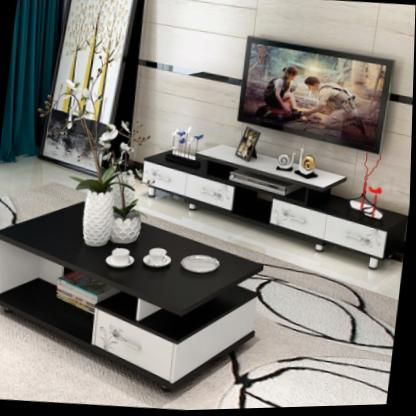TV stand: (140, 126, 411, 277)
